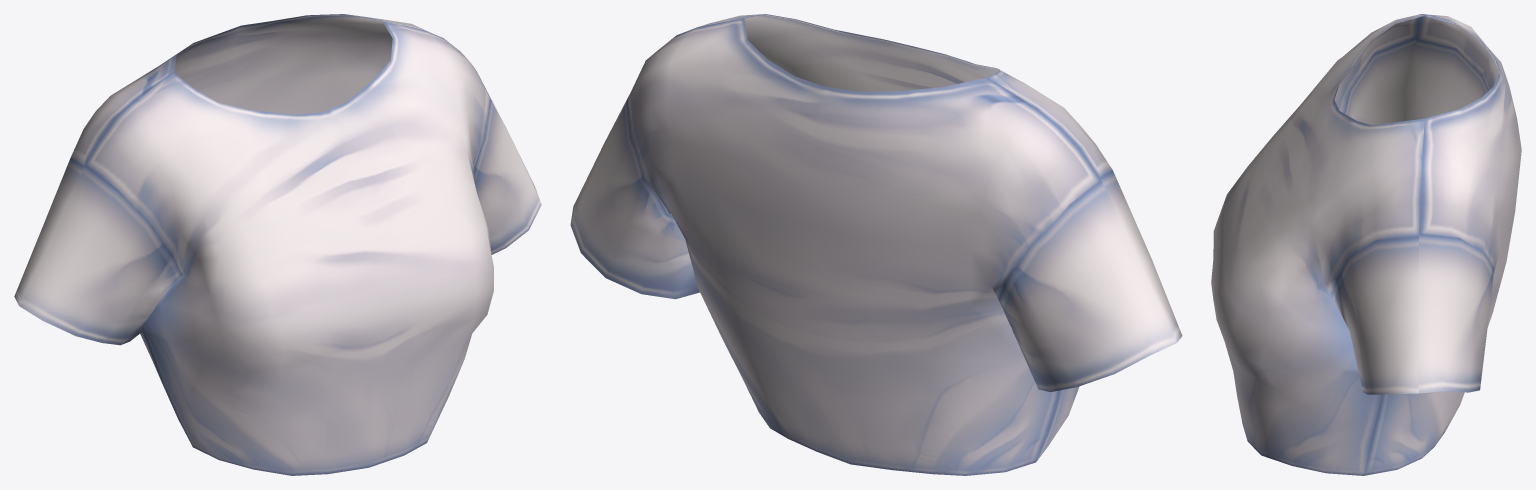
Rendered from mini-tshirt_apose.glb.
The picture shows the model from 3 angles, left to right: view 1: azimuth 30°, elevation 25°; view 2: azimuth 150°, elevation 25°; view 3: azimuth 270°, elevation 25°; orthographic projection. The views are drawn at different scales.
Parts seen in each view (by area): view 1: mini-tshirt; view 2: mini-tshirt; view 3: mini-tshirt.
Part boxes in pixels (x1,y1,x2,y2): mini-tshirt: (14,14,541,475); mini-tshirt: (570,14,1182,475); mini-tshirt: (1211,14,1521,475).
Bounding box in the file's own units: 0.4038 × 0.2643 × 0.2086.
1 material, 1 textured.
